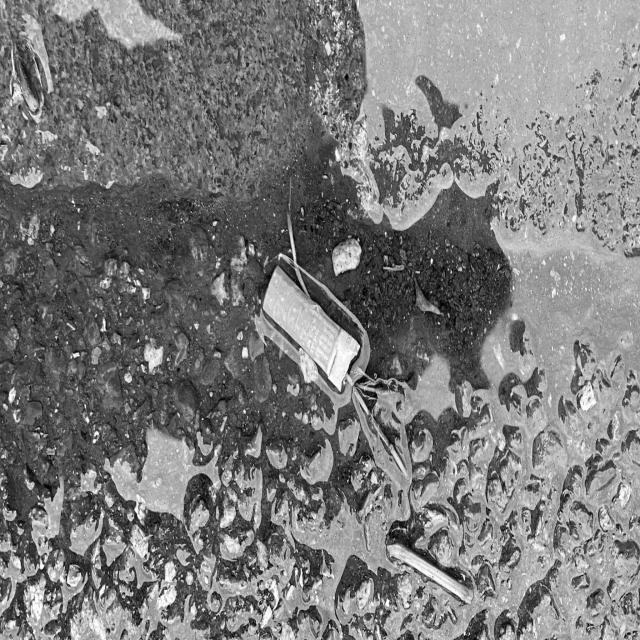other waste: (262, 263, 361, 394)
